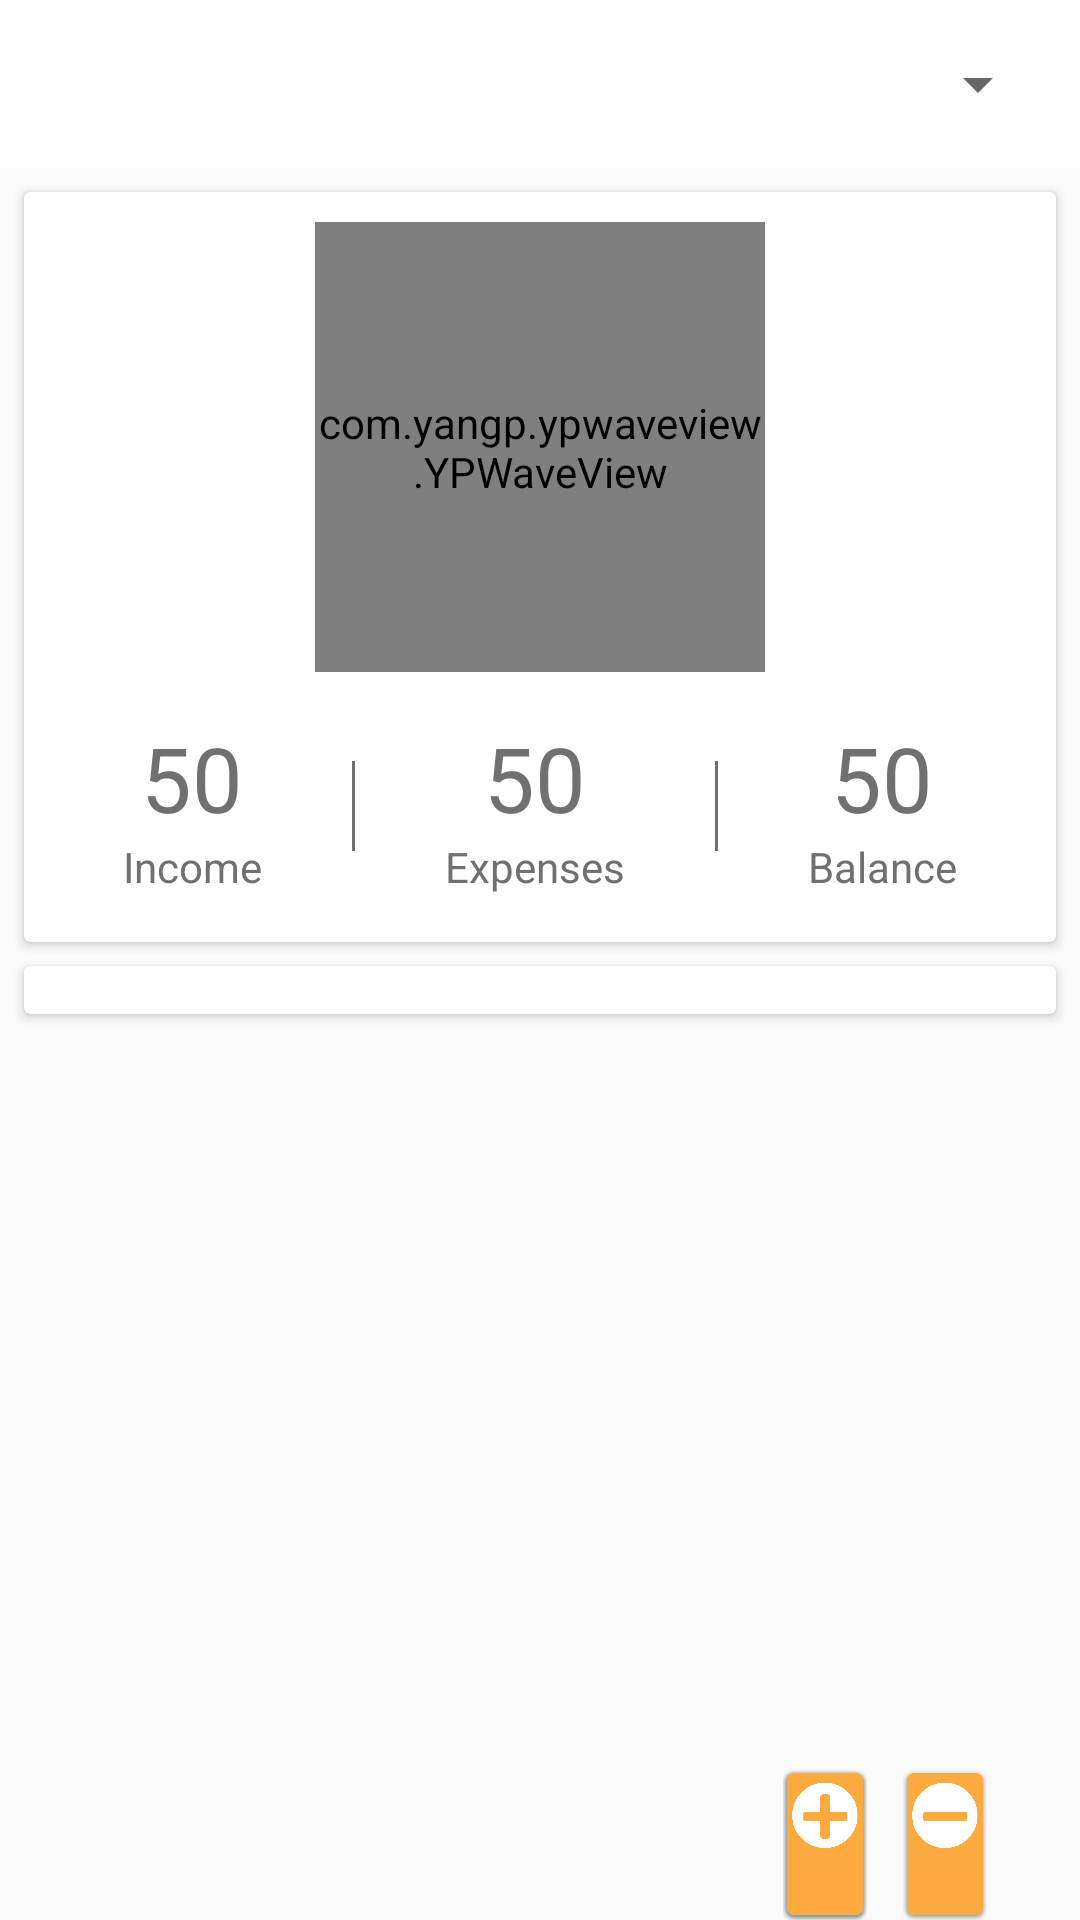

Named icons in this screenshot (1080px×1920px) and their centers, (x=x, y=y):
add: (x=824, y=1845)
substract: (x=944, y=1845)
